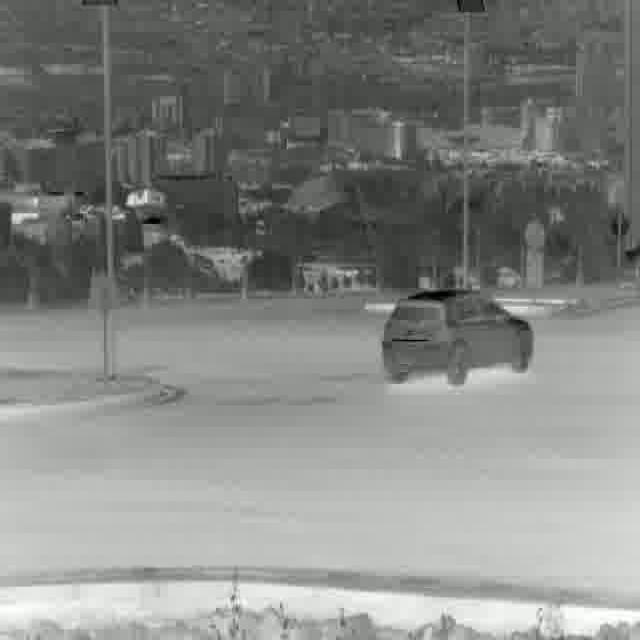Car: (381, 290, 534, 378)
